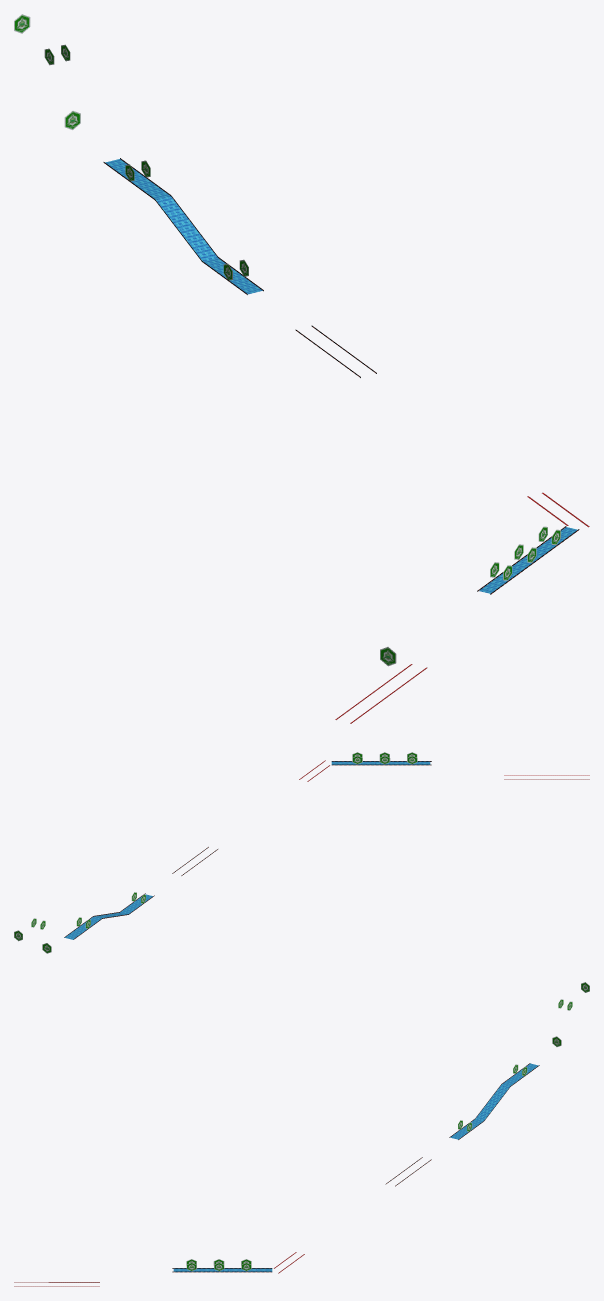
3 renders of one model, top to bottom at view 1: azimuth 30°, elevation 25°; view 2: azimuth 150°, elevation 25°; view 3: azimuth 330°, elevation 25°, orthographic. The views are drawn at different scales.
Visible parts, largest first — view 1: s03_k_05_0, s03_k_05_3, s03_k_05_1; view 2: s03_k_05_0, s03_k_05_3, s03_k_05_1; view 3: s03_k_05_0, s03_k_05_3, s03_k_05_1.
Part boxes in pixels (bbox=[...]): s03_k_05_0: bbox=[105, 159, 577, 593]; s03_k_05_3: bbox=[14, 14, 560, 666]; s03_k_05_1: bbox=[103, 158, 579, 594]; s03_k_05_0: bbox=[64, 761, 430, 939]; s03_k_05_3: bbox=[14, 752, 417, 953]; s03_k_05_1: bbox=[64, 761, 431, 939]; s03_k_05_0: bbox=[173, 1063, 538, 1271]; s03_k_05_3: bbox=[186, 982, 589, 1271]; s03_k_05_1: bbox=[172, 1063, 539, 1272].
Bounding box in the file's own units: 2240 × 788 × 7190.
